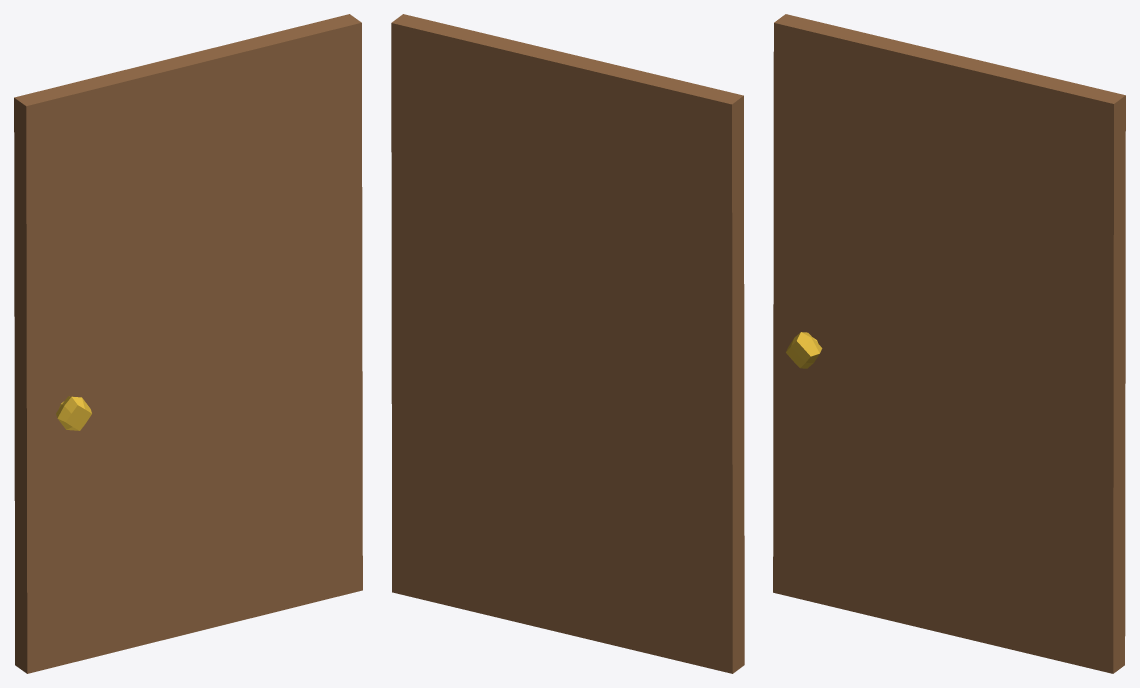
Rendered from SKYSDOOR_V1.fbx.
3 views of the same model, side by side, from view 1: azimuth 30°, elevation 25°; view 2: azimuth 150°, elevation 25°; view 3: azimuth 330°, elevation 25° (orthographic).
Parts seen in each view (by area): view 1: Cube; view 2: Cube; view 3: Cube.
Part boxes in pixels (x1,y1,x2,y2): Cube: (14, 14, 362, 673); Cube: (391, 14, 744, 673); Cube: (773, 14, 1125, 673).
Bounding box in the file's own units: 181 × 290 × 26.14.
